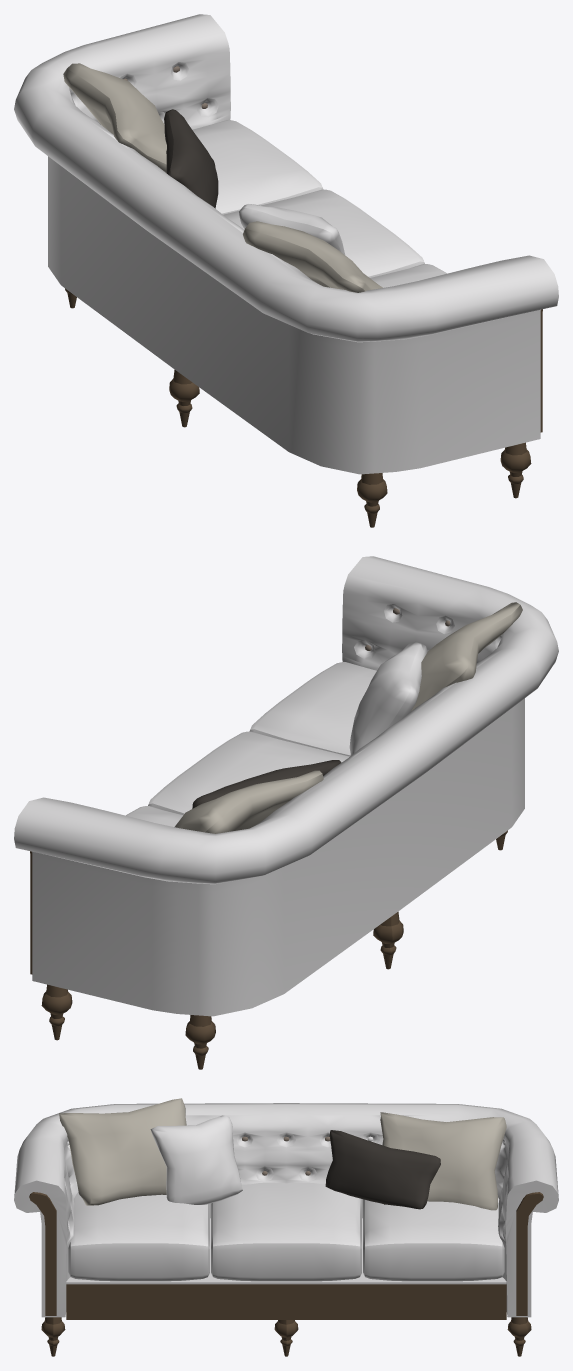
Rendered from SM_Sofa_01.glb.
3 renders of one model, top to bottom at view 1: azimuth 30°, elevation 25°; view 2: azimuth 150°, elevation 25°; view 3: azimuth 270°, elevation 25°, orthographic. The views are drawn at different scales.
Parts seen in each view (by area): view 1: SM_Sofa_01; view 2: SM_Sofa_01; view 3: SM_Sofa_01.
Boxes of the visible parts, x1,y1,x2,y2 form: SM_Sofa_01: (14, 14, 558, 527); SM_Sofa_01: (14, 556, 558, 1069); SM_Sofa_01: (14, 1098, 558, 1356).
Bounding box in the file's own units: 0.9246 × 0.9513 × 2.45.
1 material, 1 textured.
